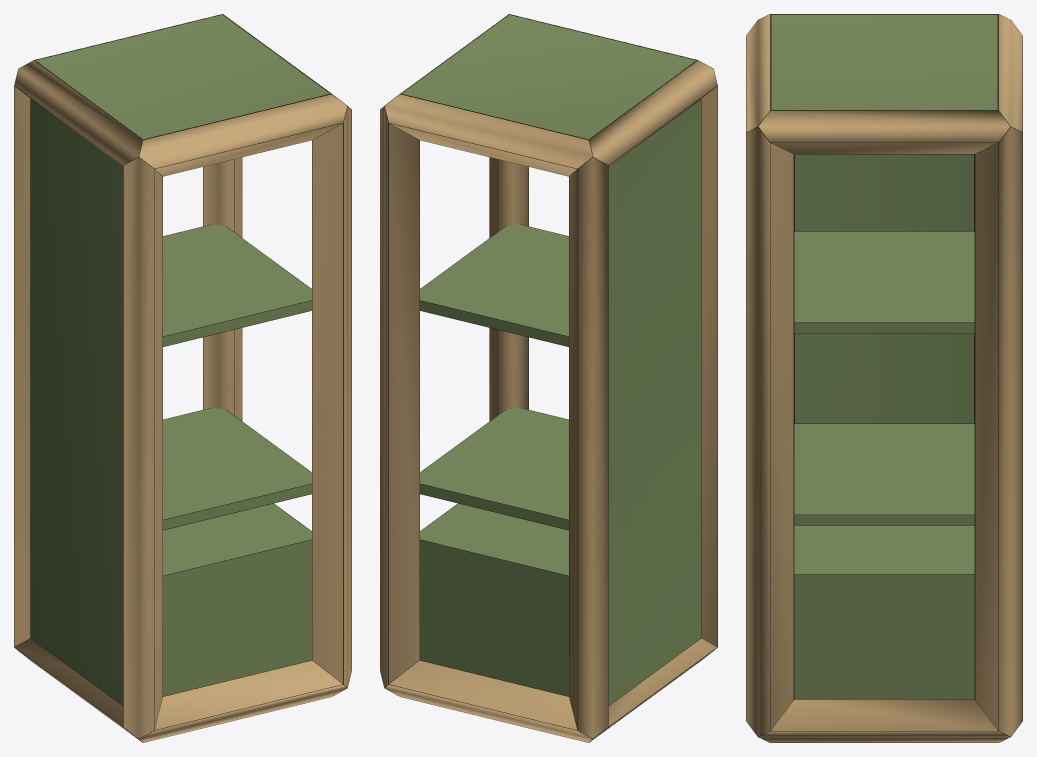
File: servante-petite.glb
The picture shows the model from 3 angles, left to right: view 1: azimuth 30°, elevation 25°; view 2: azimuth 150°, elevation 25°; view 3: azimuth 270°, elevation 25°; orthographic projection. The views are drawn at different scales.
Visible parts, largest first — view 1: panneau-joue1, mod-drawer-0, arete-Z0, arete-Z1, panneau-dessus_exterieur, mod-shelf-1, mod-shelf-0, arete-Z2, arete-X2, arete-X0, arete-Z3, arete-Y2 (+8 smaller); view 2: panneau-joue1, mod-drawer-0, arete-Z2, arete-Z3, panneau-dessus_exterieur, mod-shelf-1, mod-shelf-0, arete-Z0, arete-X3, arete-X1, arete-Z1, arete-Y2 (+8 smaller); view 3: mod-drawer-0, panneau-joue1, arete-Z1, arete-Z3, panneau-dessus_exterieur, mod-shelf-0, mod-shelf-1, arete-Y3, arete-Y1, arete-X2, arete-X3, arete-wire-Z1 (+6 smaller).
Part boxes in pixels (x1=…): panneau-joue1: x1=30, y1=99, x2=123, y2=705; mod-drawer-0: x1=163, y1=503, x2=311, y2=696; arete-Z0: x1=123, y1=157, x2=162, y2=738; arete-Z1: x1=312, y1=107, x2=351, y2=687; panneau-dessus_exterieur: x1=35, y1=15, x2=329, y2=139; mod-shelf-1: x1=163, y1=224, x2=311, y2=346; mod-shelf-0: x1=163, y1=408, x2=311, y2=529; arete-Z2: x1=14, y1=86, x2=30, y2=646; arete-X2: x1=139, y1=94, x2=347, y2=176; arete-X0: x1=139, y1=660, x2=346, y2=742; arete-Z3: x1=203, y1=157, x2=242, y2=421; arete-Y2: x1=14, y1=60, x2=142, y2=166; panneau-joue1: x1=608, y1=99, x2=701, y2=705; mod-drawer-0: x1=420, y1=503, x2=568, y2=696; arete-Z2: x1=569, y1=157, x2=608, y2=738; arete-Z3: x1=380, y1=107, x2=419, y2=687; panneau-dessus_exterieur: x1=402, y1=15, x2=696, y2=139; mod-shelf-1: x1=420, y1=224, x2=568, y2=346; mod-shelf-0: x1=420, y1=408, x2=568, y2=529; arete-Z0: x1=701, y1=86, x2=717, y2=646; arete-X3: x1=384, y1=94, x2=592, y2=176; arete-X1: x1=385, y1=660, x2=592, y2=742; arete-Z1: x1=489, y1=157, x2=528, y2=421; arete-Y2: x1=589, y1=60, x2=717, y2=166; mod-drawer-0: x1=794, y1=525, x2=974, y2=699; panneau-joue1: x1=794, y1=154, x2=974, y2=423; arete-Z1: x1=746, y1=127, x2=793, y2=736; arete-Z3: x1=975, y1=127, x2=1022, y2=736; panneau-dessus_exterieur: x1=771, y1=14, x2=997, y2=110; mod-shelf-0: x1=794, y1=424, x2=974, y2=525; mod-shelf-1: x1=794, y1=231, x2=974, y2=332; arete-Y3: x1=758, y1=111, x2=1010, y2=153; arete-Y1: x1=759, y1=699, x2=1009, y2=742; arete-X2: x1=746, y1=14, x2=770, y2=131; arete-X3: x1=998, y1=14, x2=1022, y2=131; arete-wire-Z1: x1=746, y1=126, x2=794, y2=730.
Size of the model in its own units: 0.3288 by 0.8288 by 0.3288.
